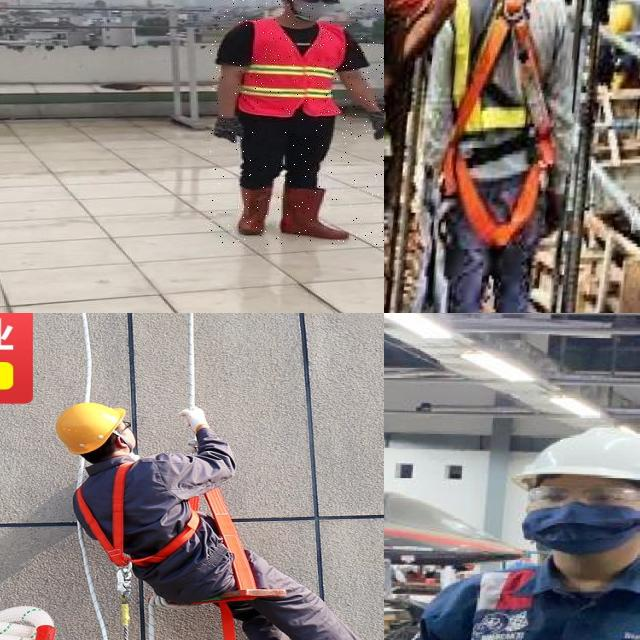Harness: (460, 0, 556, 241), (78, 452, 199, 570)
boots: (279, 185, 349, 241), (233, 184, 271, 237)
face_mask: (525, 502, 640, 554)
glasses: (528, 486, 640, 513)
head_helmet: (513, 427, 640, 490)
person: (209, 0, 384, 246)
vest: (239, 16, 349, 116)
